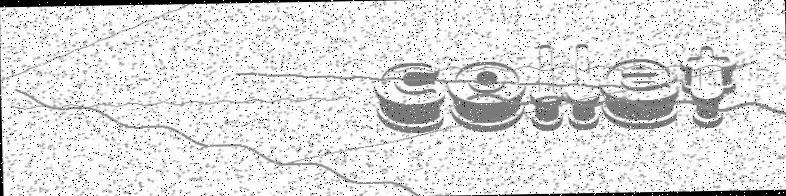c: (372, 60, 447, 134)
e: (600, 57, 678, 130)
l: (562, 41, 600, 131), (528, 42, 565, 134)
o: (445, 59, 527, 133)
t: (679, 44, 736, 129)
